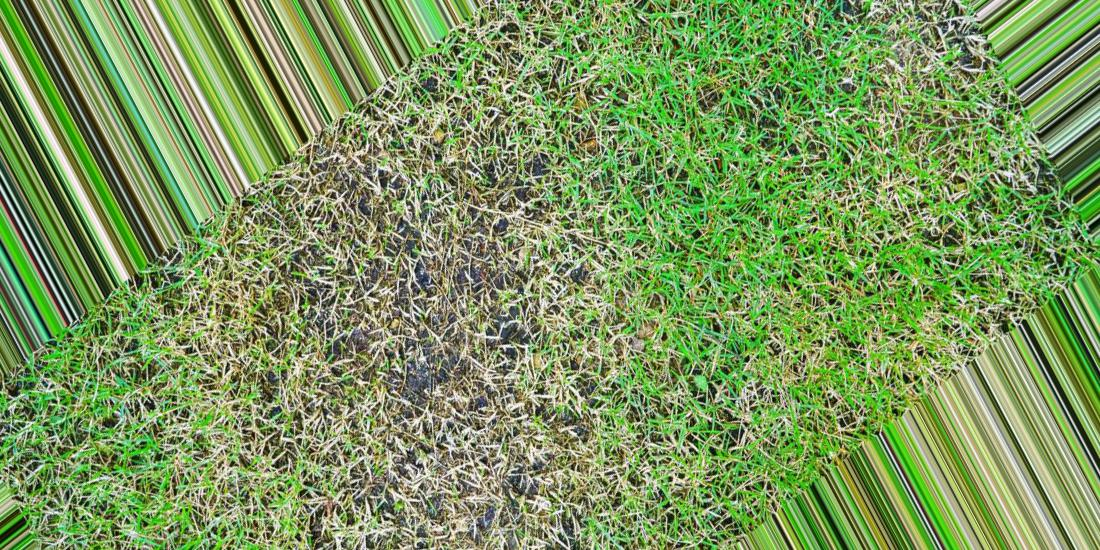patch: (213, 271, 453, 457), (362, 195, 529, 378), (354, 64, 524, 226)
